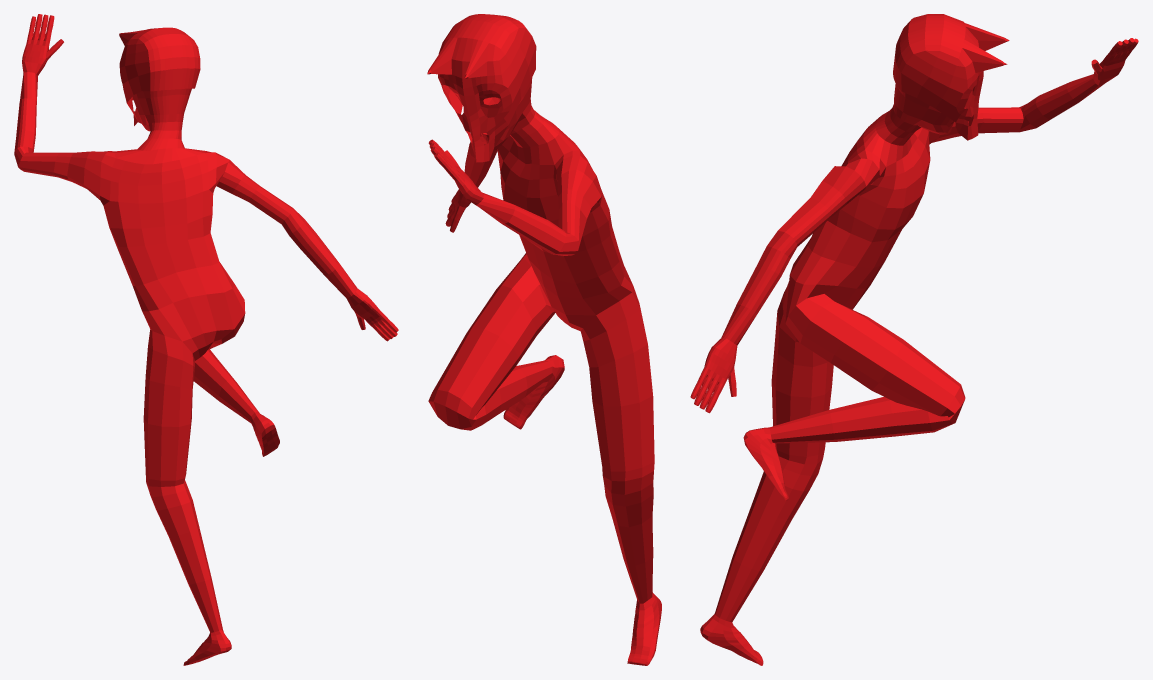
Rendered from saltoadelanteE_000103.obj.
3 renders of one model, left to right at view 1: azimuth 30°, elevation 25°; view 2: azimuth 150°, elevation 25°; view 3: azimuth 270°, elevation 25°, orthographic. The views are drawn at different scales.
Visible parts, largest first — view 1: Plane.002_Plane.001; view 2: Plane.002_Plane.001; view 3: Plane.002_Plane.001.
Part boxes in pixels (box(x1,y1,x2,y2)): Plane.002_Plane.001: box(14, 14, 398, 665); Plane.002_Plane.001: box(427, 14, 661, 665); Plane.002_Plane.001: box(690, 14, 1138, 665).
Size of the model in its own units: 3.11 by 6.98 by 4.24.
